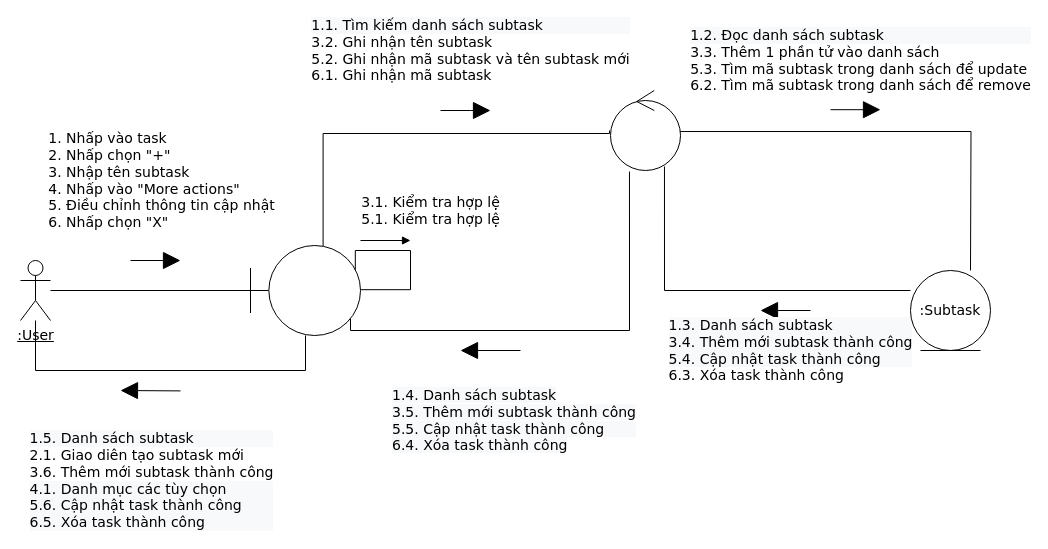
This 1048x549 diagram has some shape labels left out. The shapes that lost their labels are listed below. From the top down, each one's box as (x1, y1, x2, y2) in pixels, then its label:
(610, 90, 680, 170): :Subtask Controller
(250, 244, 360, 336): :Trang MyTask
